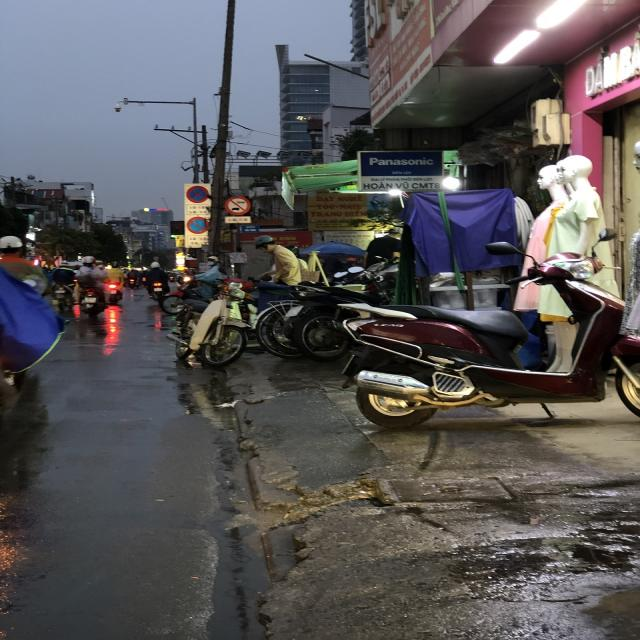Bien bao cam dung xe va do xe: (186, 184, 210, 203)
Bien bao cam xe oto khach va xe oto tai: (223, 195, 252, 215)
